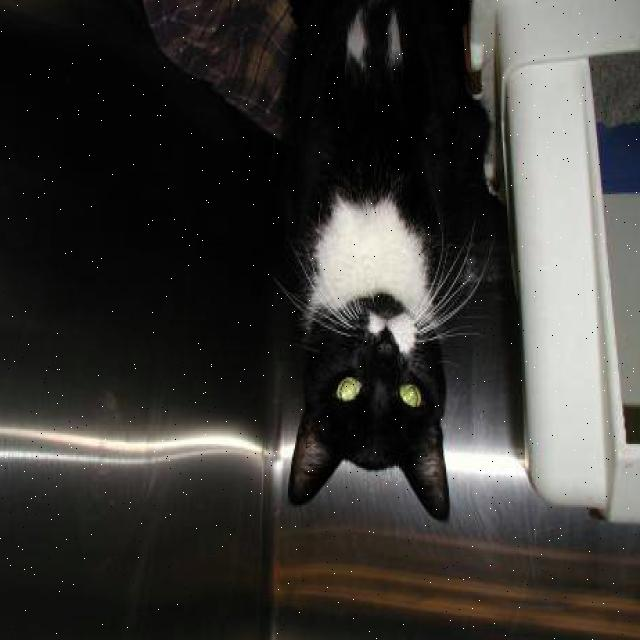Cat: (290, 286, 451, 501)
